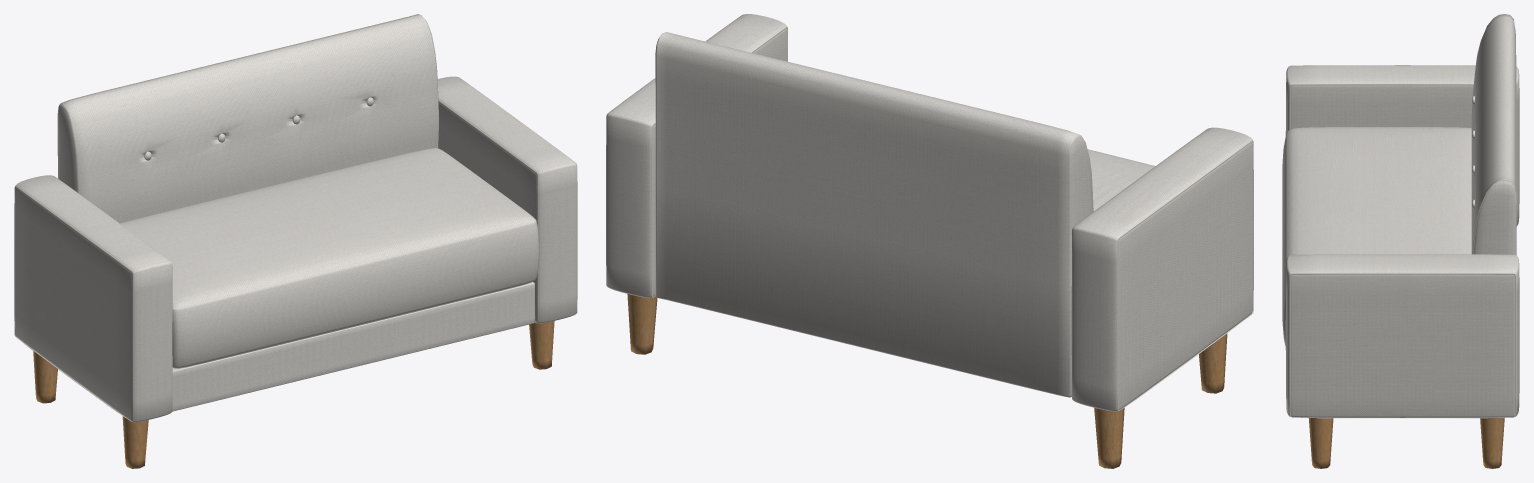
The model's file is design7.obj.
3 renders of one model, left to right at view 1: azimuth 30°, elevation 25°; view 2: azimuth 150°, elevation 25°; view 3: azimuth 270°, elevation 25°, orthographic. The views are drawn at different scales.
Parts seen in each view (by area): view 1: Box031, Box029, Box030, Box028, Box032; view 2: Box029, Box030, Box032, Box031; view 3: Box030, Box031, Box029, Box032.
Part boxes in pixels (box(x1,y1,x2,y2)): Box031: box(120, 148, 539, 368); Box029: box(57, 14, 438, 223); Box030: box(14, 76, 577, 422); Box028: box(172, 282, 534, 411); Box032: box(33, 321, 554, 468); Box029: box(655, 32, 1093, 397); Box030: box(606, 14, 1253, 411); Box032: box(627, 294, 1227, 468); Box031: box(1087, 149, 1155, 211); Box030: box(1285, 65, 1519, 418); Box031: box(1282, 127, 1471, 346); Box029: box(1471, 14, 1516, 255); Box032: box(1308, 418, 1504, 468).
Size of the model in its own units: 1219 by 749 by 587.
2 materials, 2 textured.
